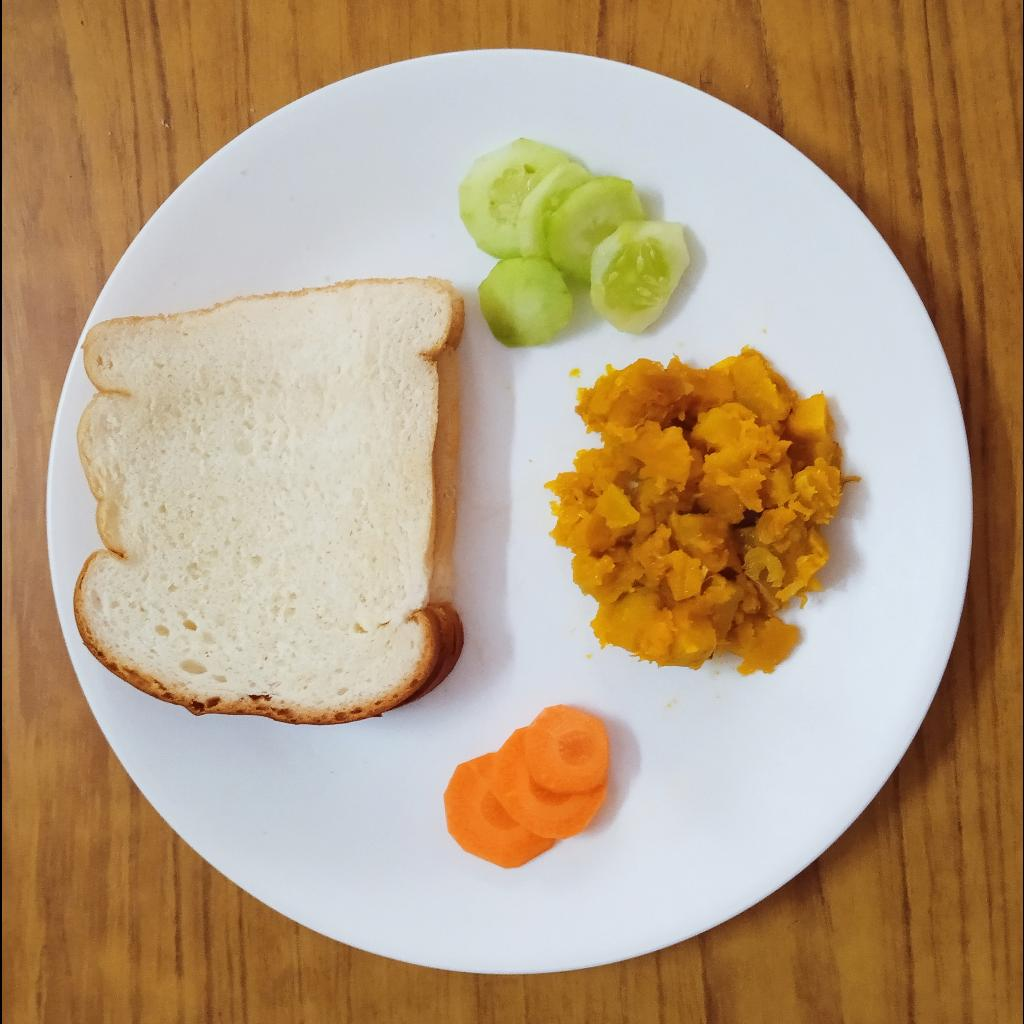bread: (74, 274, 467, 729)
carrot: (445, 703, 611, 868)
cucumber: (453, 134, 692, 345)
kumra-vaji: (546, 349, 841, 674)
